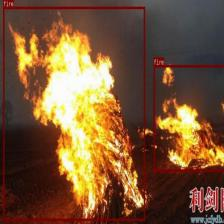fire: (3, 6, 145, 220), (153, 64, 224, 172)
